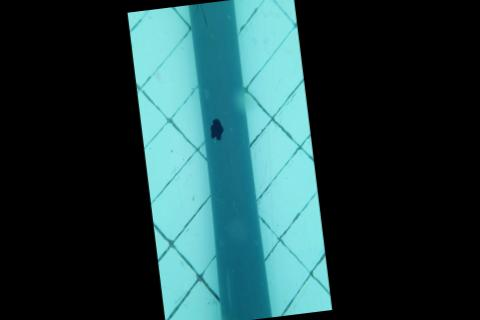kebocoran: (207, 117, 224, 143)
keretakan: (192, 3, 208, 28)
